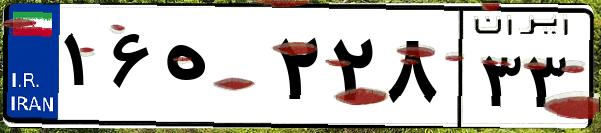1: (57, 26, 110, 100)
2: (270, 28, 330, 110), (330, 28, 385, 110)
3: (475, 38, 525, 113), (525, 38, 570, 115)
6: (110, 28, 158, 98)
8: (385, 28, 445, 110)
ه: (158, 20, 270, 120)
